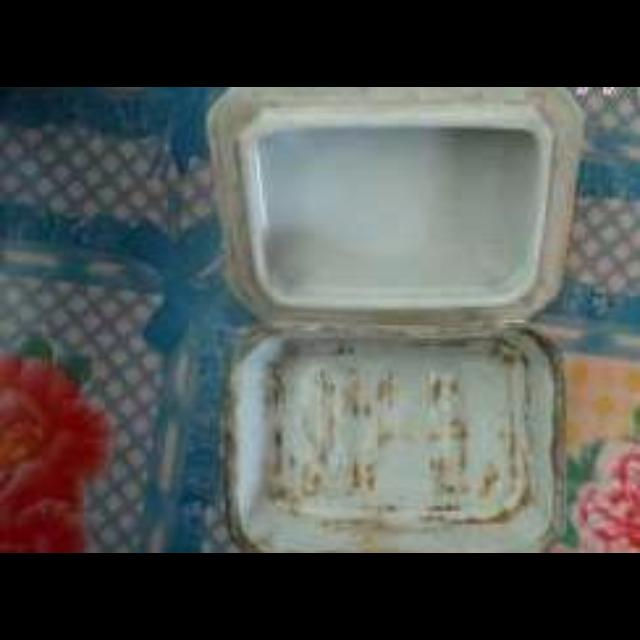plastic_box: (199, 88, 576, 546)
